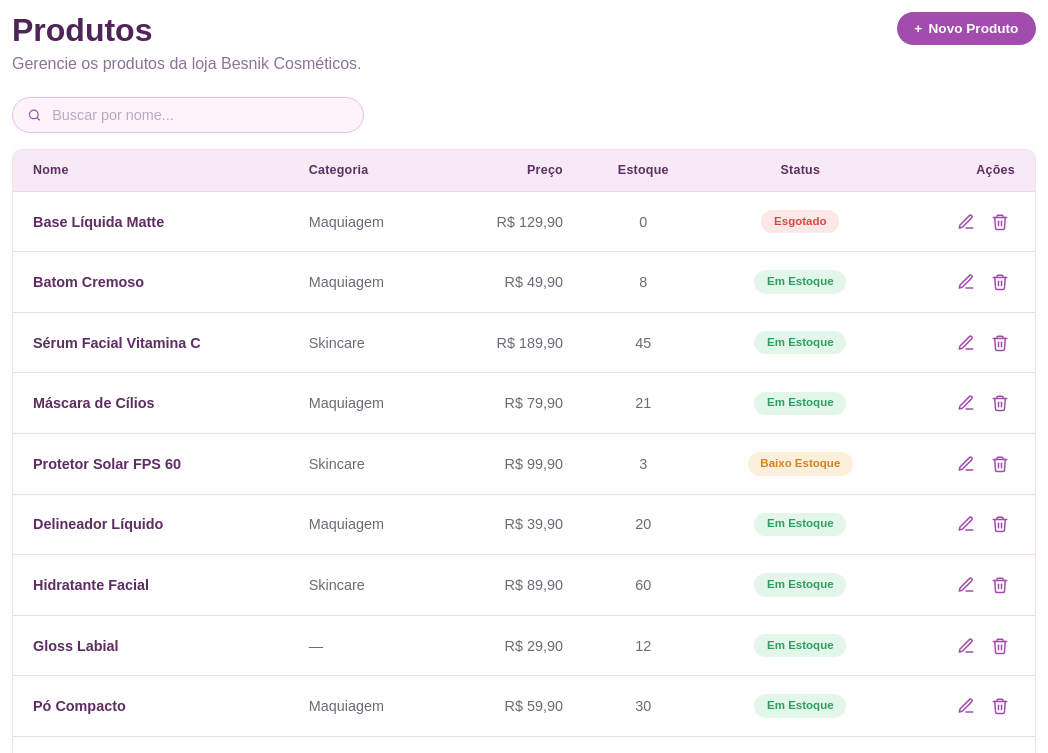
ProdutosComponent › filtra por nome
The width and height of the screenshot is (1048, 753).
Type "a" into the search field with id "busca-produtos".
click(199, 115); type("a")  # box left=50, top=106, right=349, bottom=124
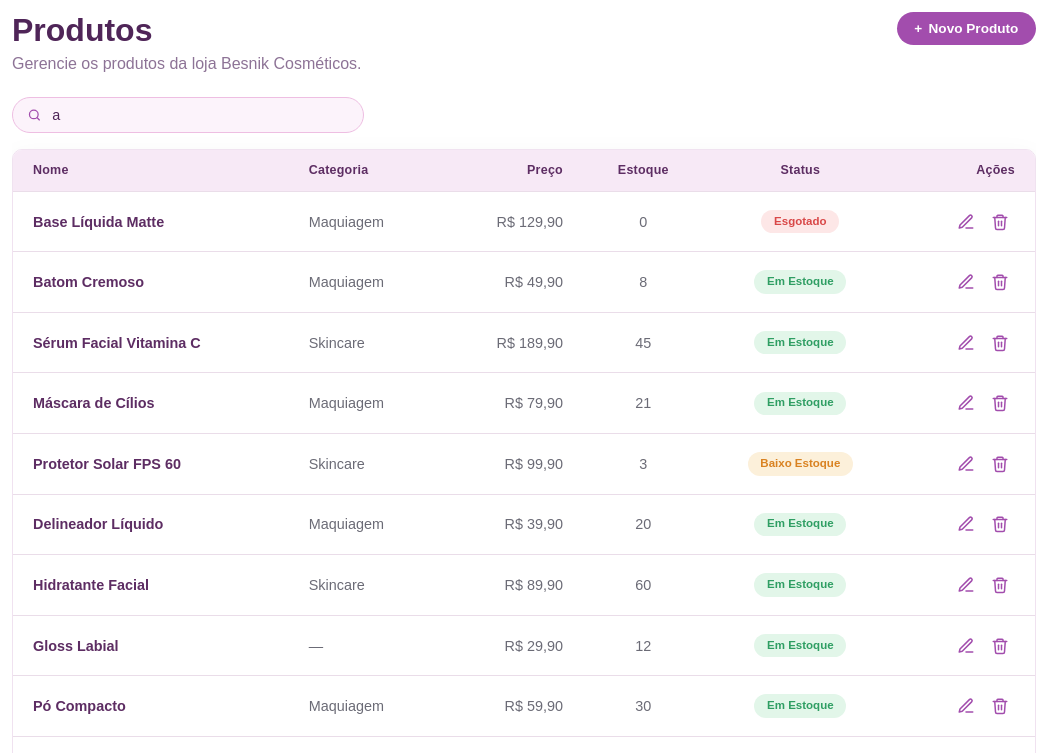
Replace the text in the search field with id "busca-produtos" with "batom" at (199, 115), box left=50, top=106, right=349, bottom=124
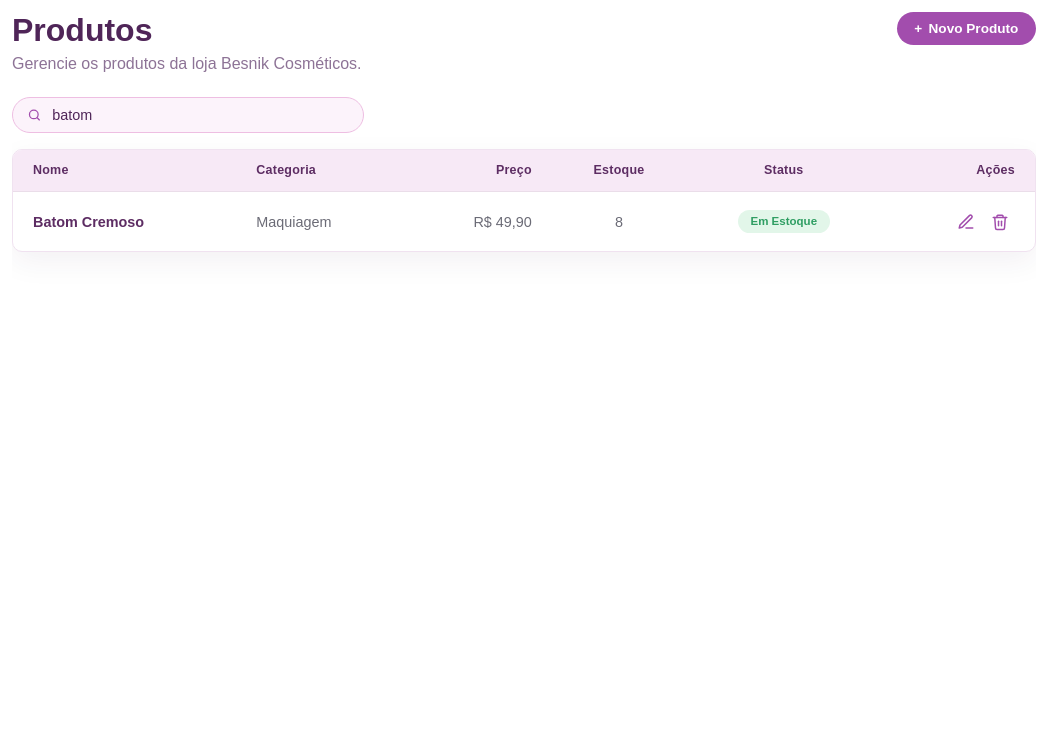
Result: the text "Batom Cremoso" is shown at left=33, top=214, right=144, bottom=230
